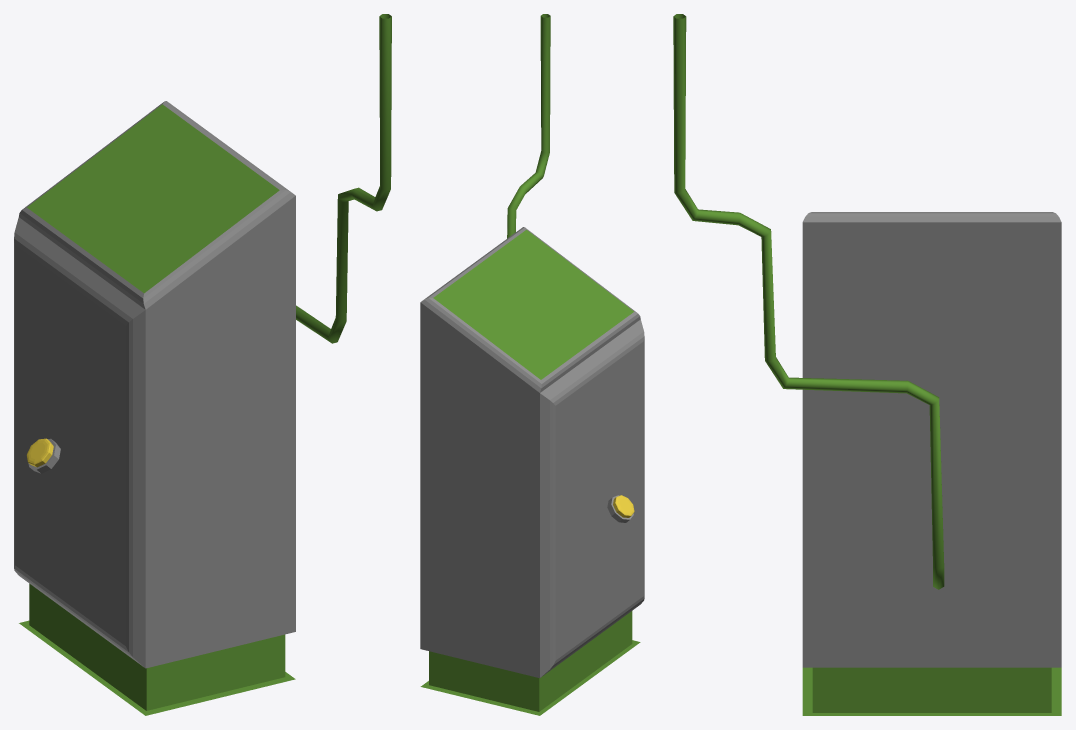
The model's file is GardenControlMachine.fbx.
The picture shows the model from 3 angles, left to right: view 1: azimuth 30°, elevation 25°; view 2: azimuth 150°, elevation 25°; view 3: azimuth 270°, elevation 25°; orthographic projection. The views are drawn at different scales.
Parts seen in each view (by area): view 1: Cylinder.140; view 2: Cylinder.140; view 3: Cylinder.140.
Part boxes in pixels (box(x1,y1,x2,y2)): Cylinder.140: box(14, 14, 391, 715); Cylinder.140: box(420, 14, 644, 715); Cylinder.140: box(673, 14, 1061, 715).
Bounding box in the file's own units: 87.11 × 244 × 120.
